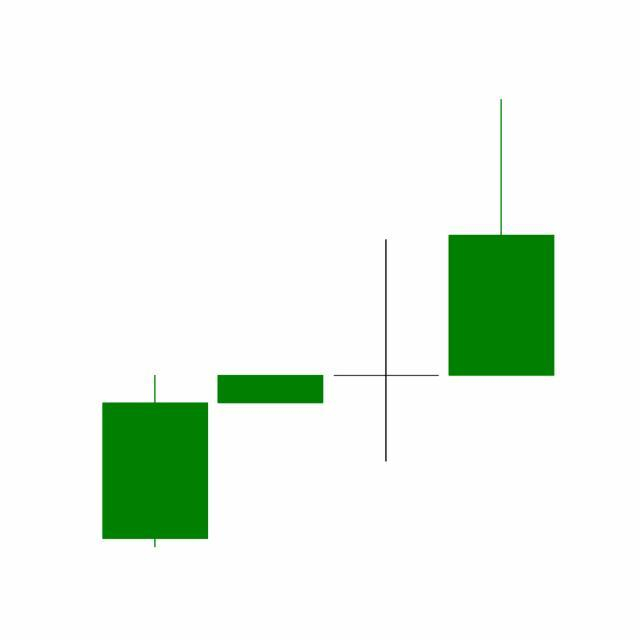Spinning Top: (329, 238, 445, 465)
